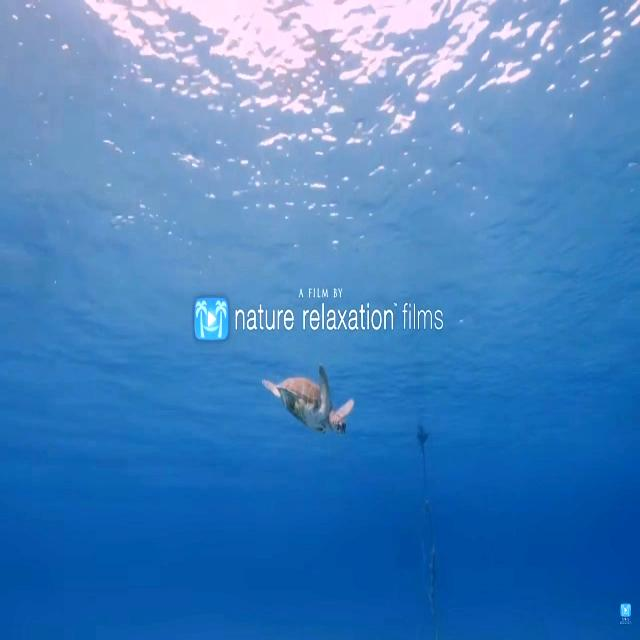Sea turtle: (258, 361, 356, 440)
